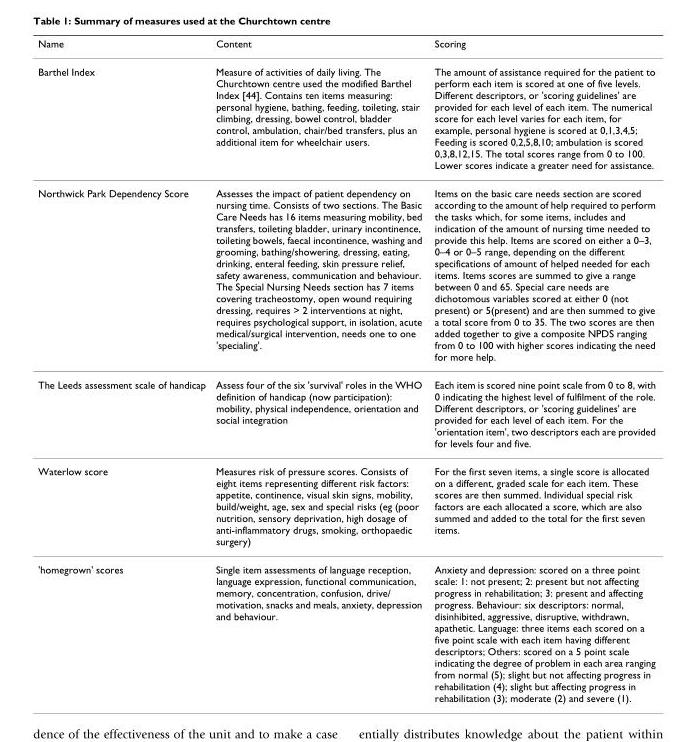table: (37, 37, 654, 703)
table column: (427, 37, 654, 703), (210, 37, 427, 703), (37, 37, 210, 703)
table column header: (37, 37, 654, 57)
table row: (37, 178, 654, 370), (37, 554, 654, 703), (37, 57, 654, 178), (37, 456, 654, 554), (37, 370, 654, 456), (37, 37, 654, 57)
